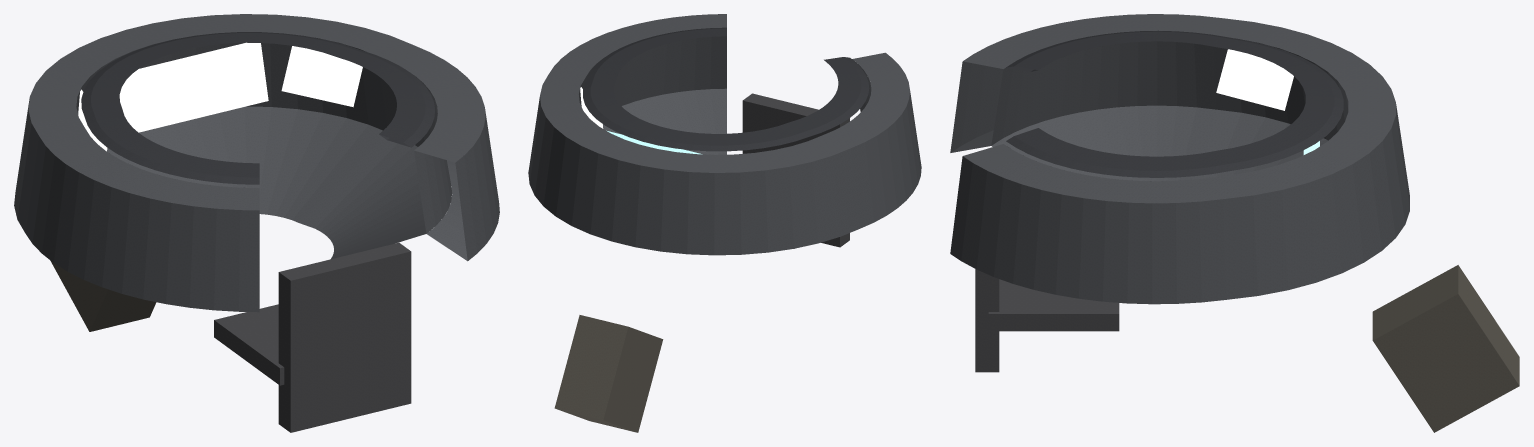
The model's file is cockpit.glb.
3 renders of one model, left to right at view 1: azimuth 30°, elevation 25°; view 2: azimuth 150°, elevation 25°; view 3: azimuth 270°, elevation 25°, orthographic. The views are drawn at different scales.
Visible parts, largest first — view 1: Cockpit Coaming, Cockpit Deck, Cockpit Seat Back, Cockpit Glareshield, Cockpit MFD Center, Cockpit MFD Starboard, Cockpit Seat Pan, Cockpit Pedestal; view 2: Cockpit Coaming, Cockpit Glareshield, Cockpit Pedestal, Cockpit Deck, Cockpit Seat Back; view 3: Cockpit Coaming, Cockpit Pedestal, Cockpit Glareshield, Cockpit Deck, Cockpit Seat Pan, Cockpit MFD Port, Cockpit Seat Back.
Boxes of the visible parts, x1,y1,x2,y2 form: Cockpit Coaming: (14, 14, 499, 312); Cockpit Deck: (107, 106, 426, 259); Cockpit Seat Back: (278, 242, 411, 432); Cockpit Glareshield: (81, 32, 434, 184); Cockpit MFD Center: (119, 42, 268, 132); Cockpit MFD Starboard: (281, 46, 362, 107); Cockpit Seat Pan: (214, 304, 284, 385); Cockpit Pedestal: (50, 260, 156, 331); Cockpit Coaming: (528, 14, 921, 255); Cockpit Glareshield: (583, 27, 869, 151); Cockpit Pedestal: (554, 315, 663, 432); Cockpit Deck: (603, 88, 726, 154); Cockpit Seat Back: (742, 93, 849, 247); Cockpit Coaming: (950, 14, 1409, 304); Cockpit Pedestal: (1372, 265, 1519, 432); Cockpit Glareshield: (1006, 30, 1343, 177); Cockpit Deck: (991, 105, 1327, 181); Cockpit Seat Pan: (988, 279, 1119, 331); Cockpit MFD Port: (1216, 49, 1293, 110); Cockpit Seat Back: (975, 269, 999, 372).
Bounding box in the file's own units: 2 × 1.48 × 2.39.
5 materials, 4 textured.
